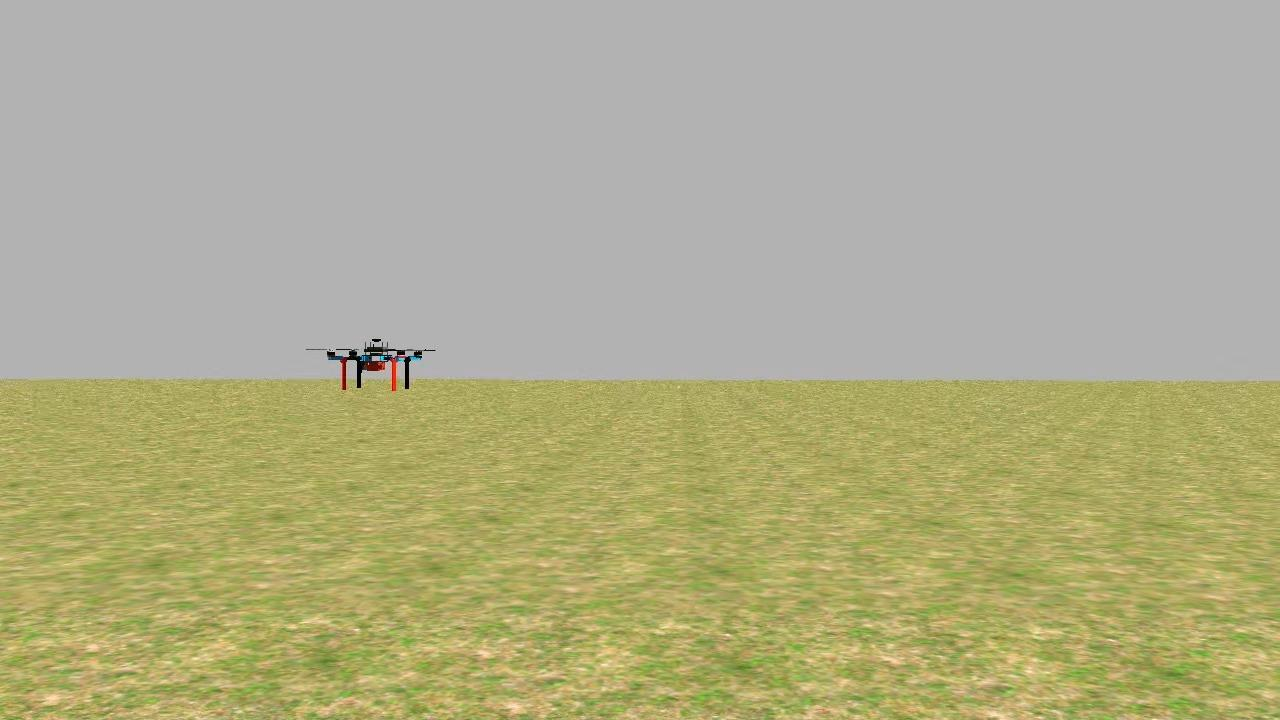UAV: (318, 331, 439, 392)
